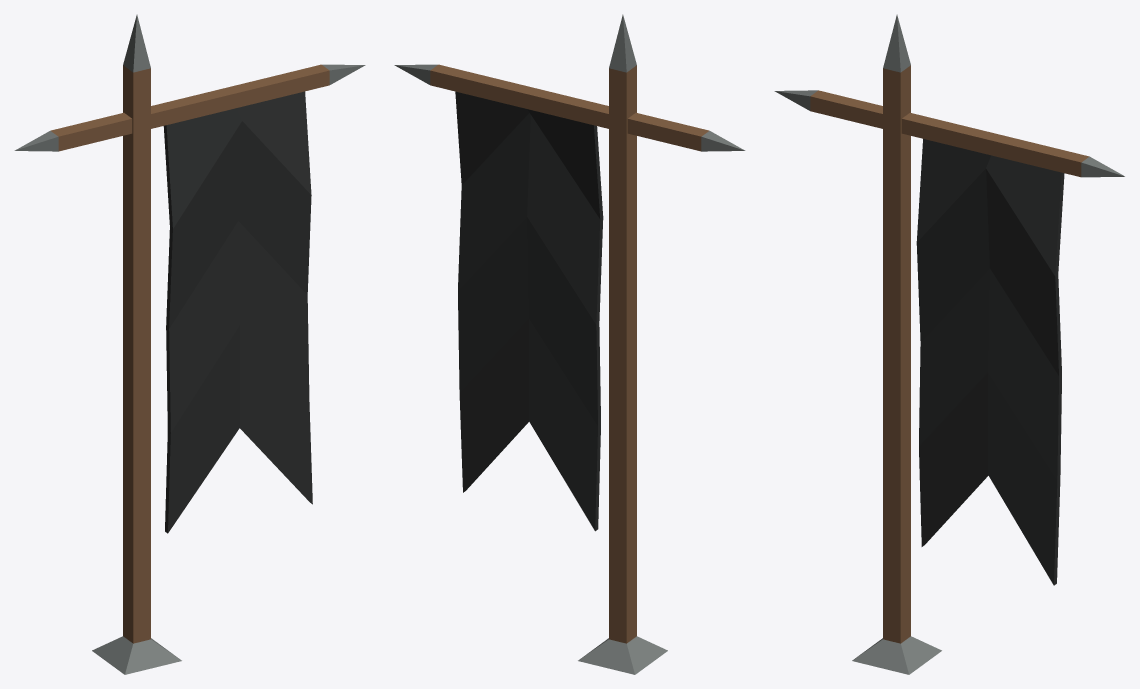
File: Banner_2_Black.fbx
3 views of the same model, side by side, from view 1: azimuth 30°, elevation 25°; view 2: azimuth 150°, elevation 25°; view 3: azimuth 330°, elevation 25° (orthographic).
Visible parts, largest first — view 1: Banner_2_Black_Part_3, Banner_2_Black_Part_1, Banner_2_Black_Part_2; view 2: Banner_2_Black_Part_3, Banner_2_Black_Part_1, Banner_2_Black_Part_2; view 3: Banner_2_Black_Part_3, Banner_2_Black_Part_1, Banner_2_Black_Part_2.
Part boxes in pixels (box(x1,y1,x2,y2)): Banner_2_Black_Part_3: box(163, 91, 312, 533); Banner_2_Black_Part_1: box(50, 64, 329, 643); Banner_2_Black_Part_2: box(14, 14, 365, 674); Banner_2_Black_Part_3: box(455, 91, 603, 531); Banner_2_Black_Part_1: box(430, 64, 709, 643); Banner_2_Black_Part_2: box(394, 14, 745, 674); Banner_2_Black_Part_3: box(916, 139, 1064, 585); Banner_2_Black_Part_1: box(810, 65, 1089, 643); Banner_2_Black_Part_2: box(774, 14, 1124, 674).
Size of the model in its own units: 172 by 300 by 28.14.
